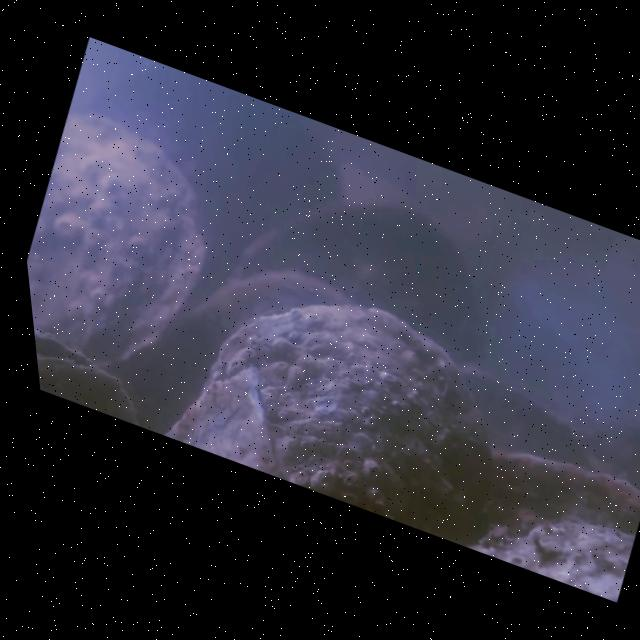Oyster-Closed: (161, 298, 499, 546), (36, 352, 145, 425), (34, 329, 93, 363)
Oyster-Indeterminate: (28, 108, 217, 368), (461, 454, 640, 602)
